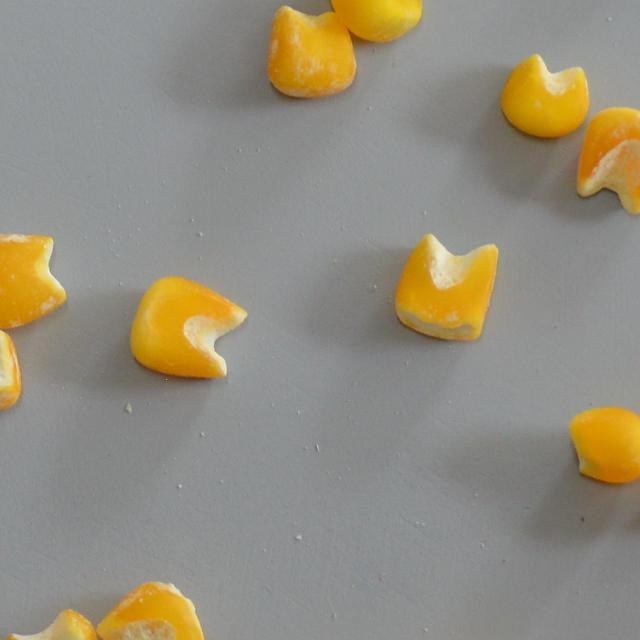no_canjicado: (128, 274, 247, 380), (394, 234, 497, 341), (498, 52, 588, 138), (568, 406, 640, 483), (322, 0, 423, 43)
pelicula: (267, 5, 356, 97), (576, 104, 640, 215), (0, 232, 66, 330), (96, 580, 203, 640), (0, 608, 102, 640), (0, 322, 22, 413)
